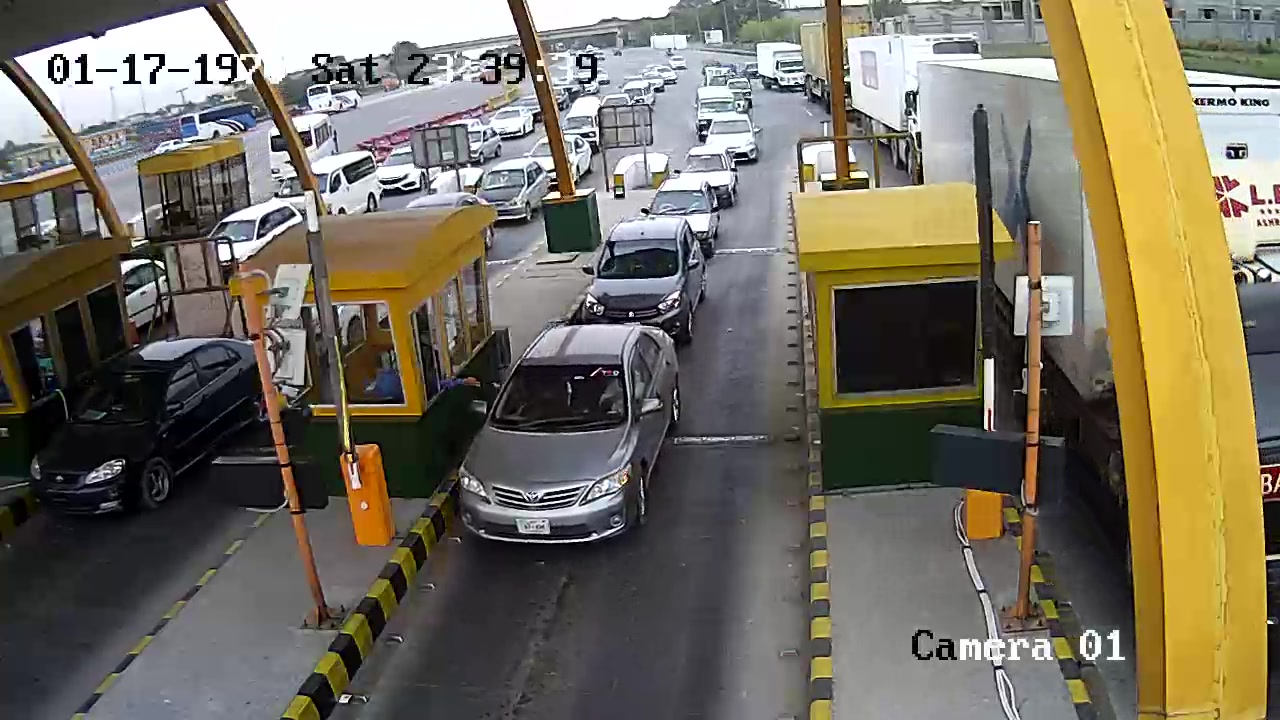F1: (453, 321, 723, 559)
